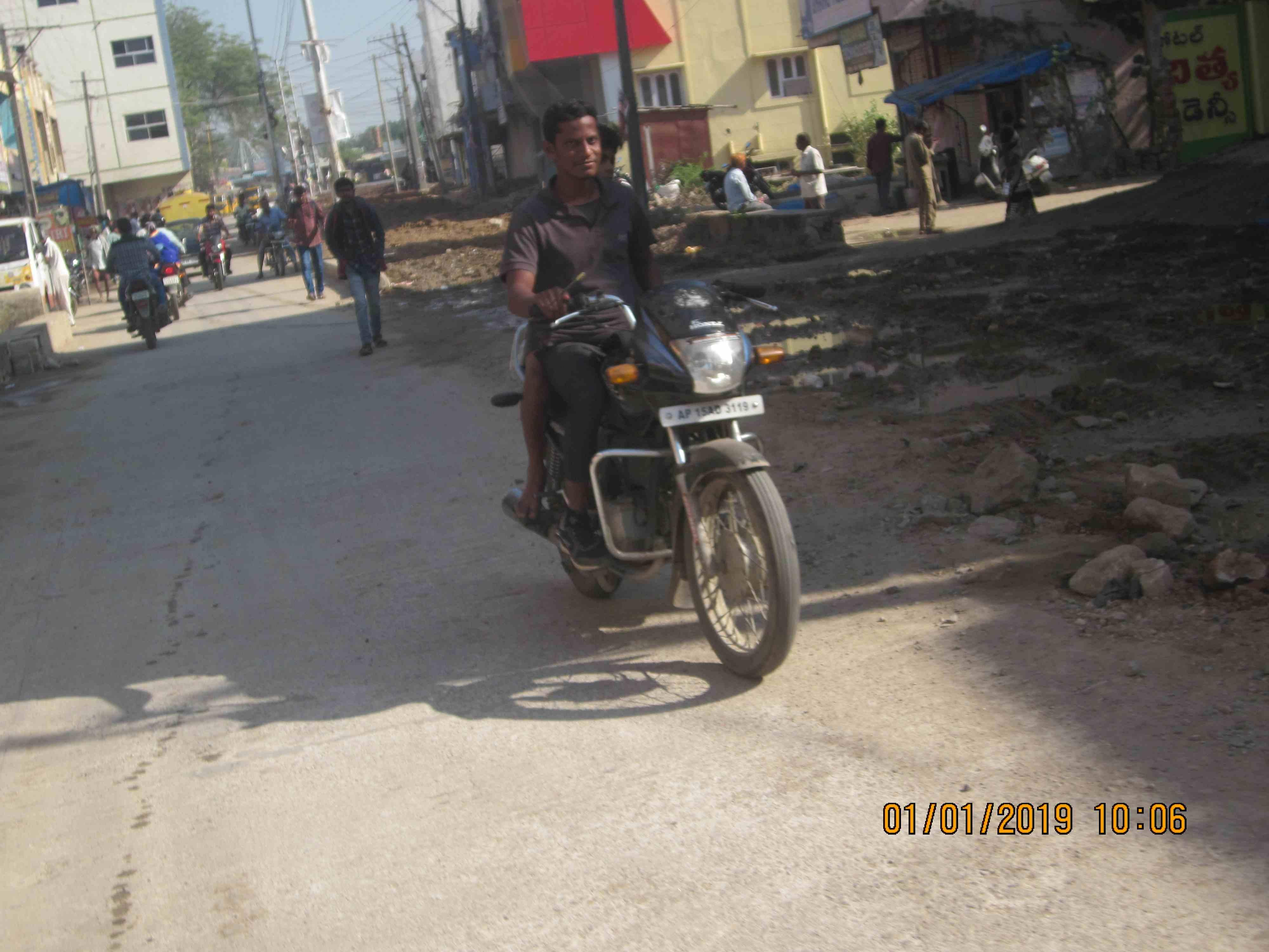plate: (653, 387, 780, 435)
